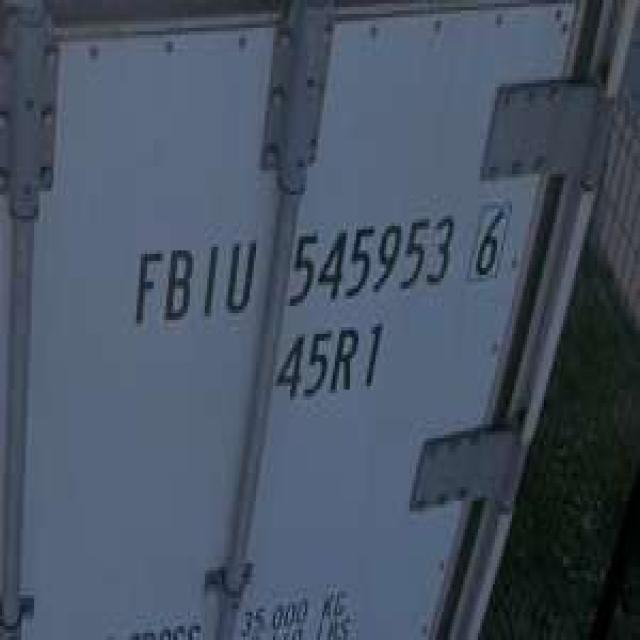dv: (465, 192, 512, 294)
owner: (134, 232, 259, 334)
serial: (288, 212, 456, 312)
size: (270, 317, 386, 407)
